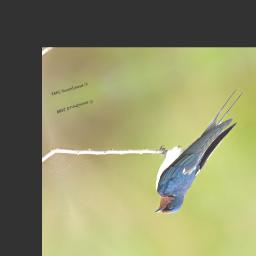Swallow: (128, 87, 256, 218)
